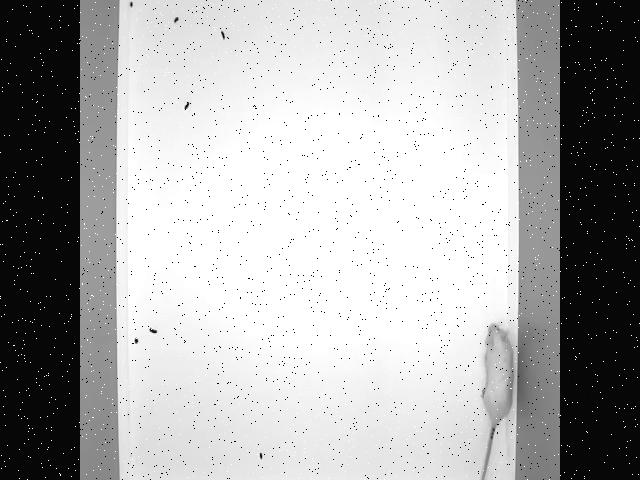Tikus: (477, 319, 515, 480)
